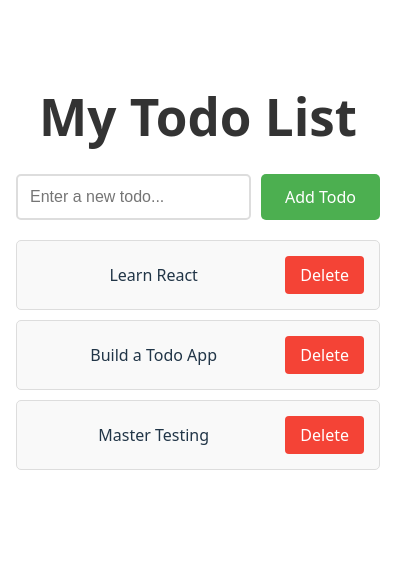
Test case: TodoList Component › adds multiple todos
This screenshot has width=398, height=567.
Type "First New Todo" into the field with placeholder "Enter a new todo..." at {"x": 134, "y": 197}, box [16,174,251,220]
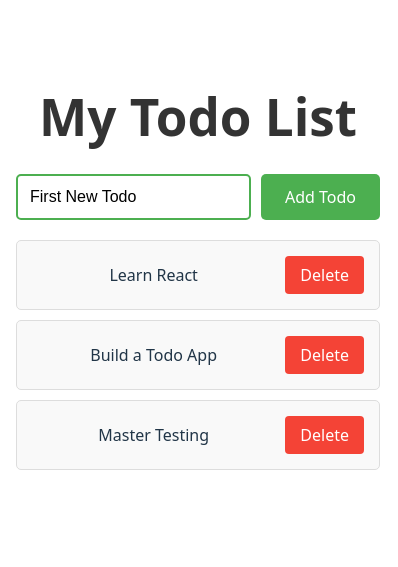
Click the button "Add Todo" at {"x": 320, "y": 197}, box [261,174,380,220]
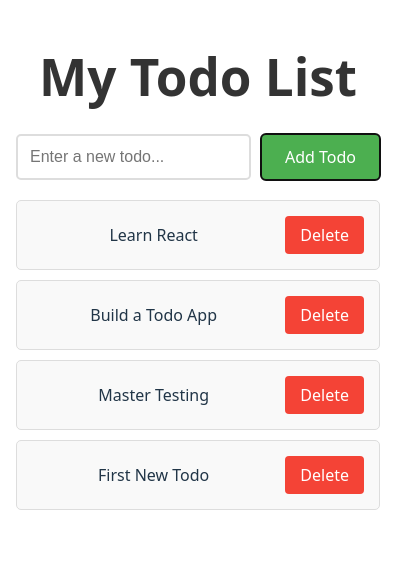
Type "Second New Todo" into the field with placeholder "Enter a new todo..." at {"x": 134, "y": 157}, box [16,134,251,180]
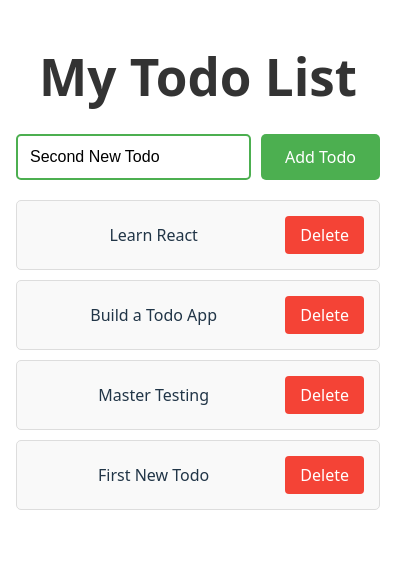
Click the button "Add Todo" at {"x": 320, "y": 157}, box [261,134,380,180]
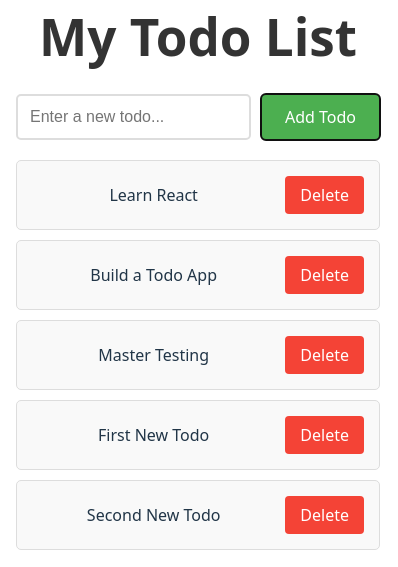
Expected: the text "First New Todo" is shown, [98,424,209,446]
Expected: the text "Second New Todo" is shown, [87,504,220,526]
